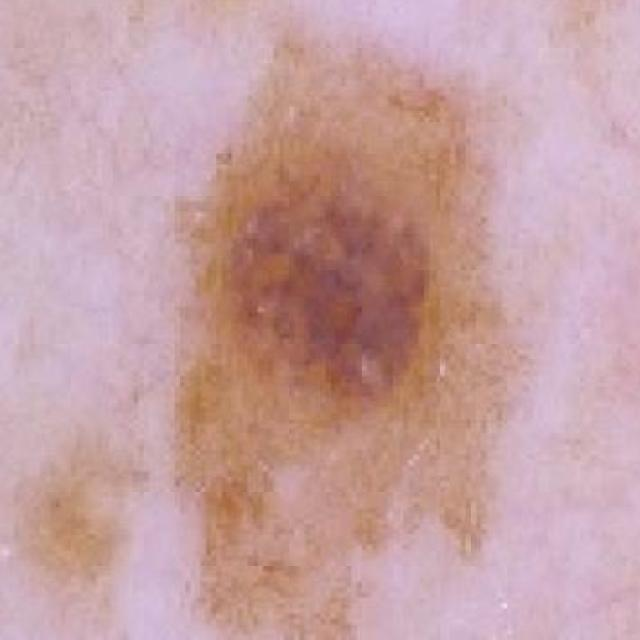BKL: (37, 0, 526, 640)
